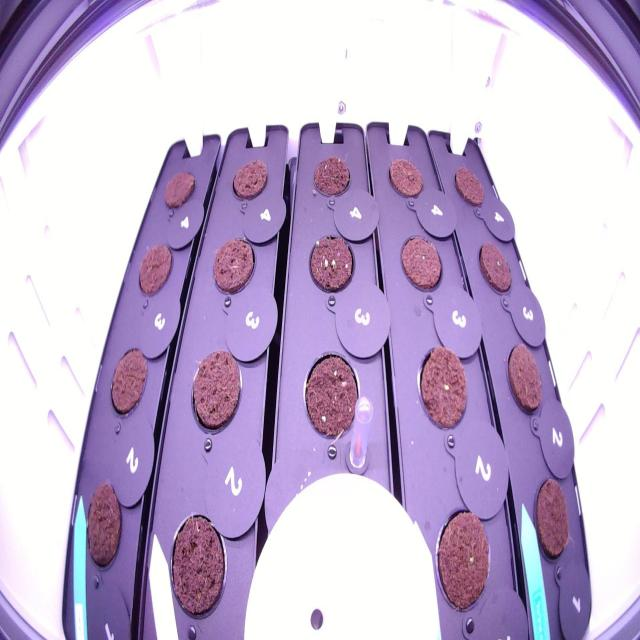germination: (297, 221, 361, 307)
pod: (160, 503, 231, 624), (431, 491, 496, 623), (298, 344, 362, 446), (411, 336, 474, 438), (184, 343, 247, 440), (77, 470, 128, 577), (526, 464, 576, 568), (497, 334, 550, 425), (104, 340, 156, 420), (393, 224, 446, 300), (208, 229, 258, 302), (473, 233, 517, 305), (303, 150, 355, 206), (132, 236, 176, 302), (380, 150, 427, 208), (446, 157, 492, 216), (226, 150, 272, 208), (158, 161, 200, 216)
